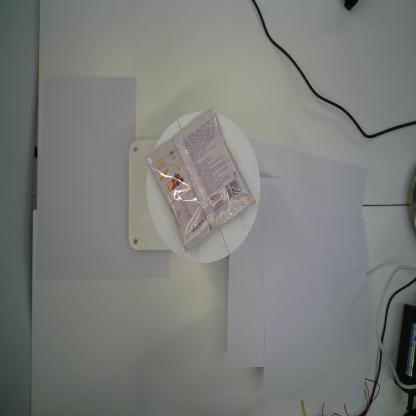Instant Drink: (145, 106, 254, 254)
